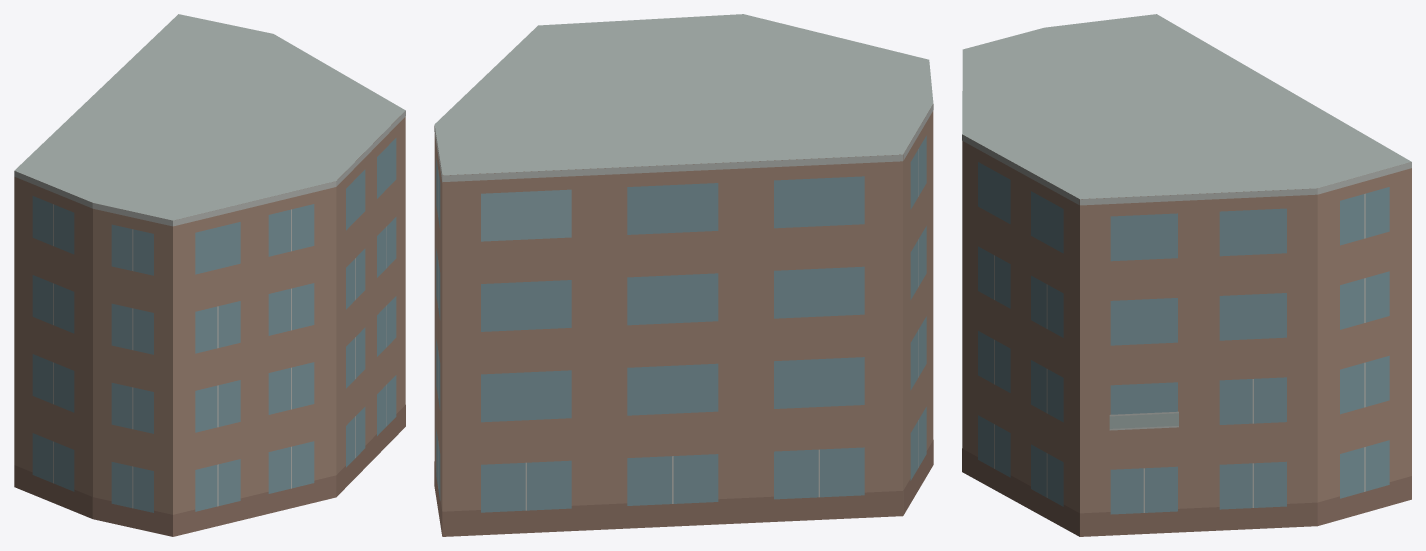
File: survey-upis-32778174.glb
3 views of the same model, side by side, from view 1: azimuth 30°, elevation 25°; view 2: azimuth 150°, elevation 25°; view 3: azimuth 270°, elevation 25° (orthographic). The views are drawn at different scales.
Visible parts, largest first — view 1: survey-upis-32778174.tmp; view 2: survey-upis-32778174.tmp; view 3: survey-upis-32778174.tmp.
Boxes of the visible parts, left/top/right/bottom form: survey-upis-32778174.tmp: left=14, top=14, right=405, bottom=536; survey-upis-32778174.tmp: left=434, top=14, right=933, bottom=536; survey-upis-32778174.tmp: left=962, top=14, right=1411, bottom=536.
Size of the model in its own units: 15.42 by 13.1 by 15.82.
